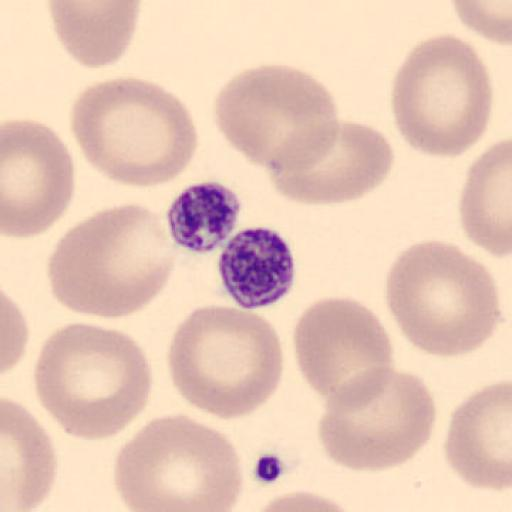Platelet: (216, 224, 299, 310), (163, 178, 244, 254)
RBC: (69, 75, 200, 190), (46, 204, 176, 319), (33, 320, 155, 442), (166, 302, 285, 422), (384, 238, 502, 359), (214, 62, 342, 171), (112, 410, 246, 512), (389, 31, 494, 159), (316, 365, 439, 473), (264, 116, 397, 207), (292, 294, 396, 400), (2, 116, 76, 240), (443, 379, 512, 492), (45, 0, 143, 69), (1, 398, 59, 512), (458, 138, 512, 260), (239, 488, 370, 512), (448, 0, 512, 47), (0, 287, 30, 377)
